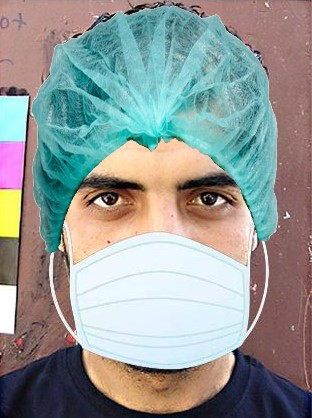with_mask_and_cap: (33, 6, 278, 371)
